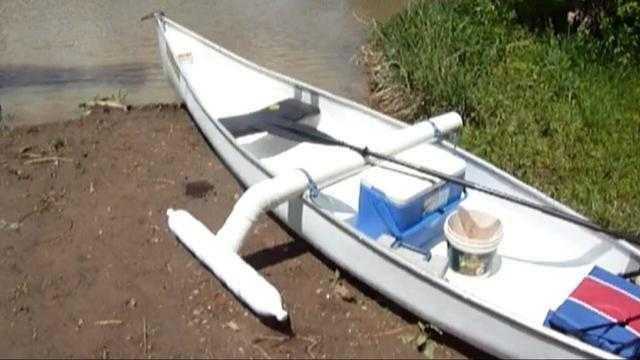kayak: (149, 15, 639, 354)
